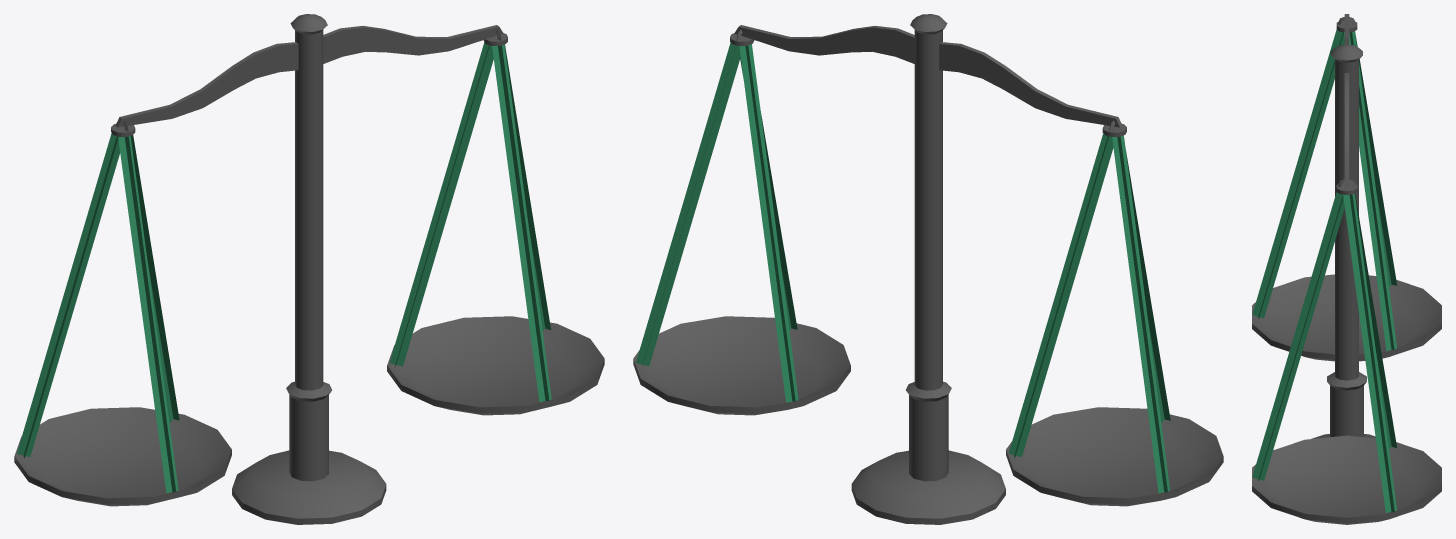
File: mw_balance scales.FBX
The picture shows the model from 3 angles, left to right: view 1: azimuth 30°, elevation 25°; view 2: azimuth 150°, elevation 25°; view 3: azimuth 270°, elevation 25°; orthographic projection. The views are drawn at different scales.
Parts seen in each view (by area): view 1: mw_balance scales; view 2: mw_balance scales; view 3: mw_balance scales.
Part boxes in pixels (x1,y1,x2,y2): mw_balance scales: (14, 14, 604, 524); mw_balance scales: (633, 14, 1223, 524); mw_balance scales: (1252, 14, 1441, 524).
Size of the model in its own units: 67.85 by 55.01 by 22.25.
